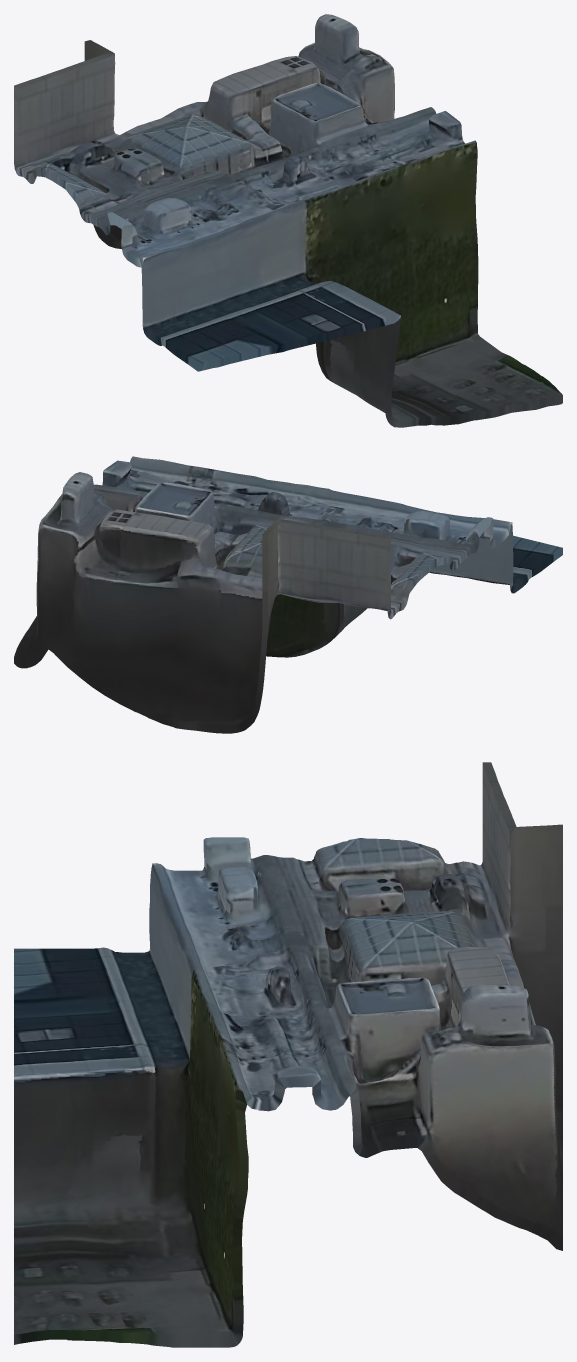
Rendered from z20-167750-405245-h0-yup-uvflip-v3-world.glb.
3 renders of one model, top to bottom at view 1: azimuth 30°, elevation 25°; view 2: azimuth 150°, elevation 25°; view 3: azimuth 270°, elevation 25°, orthographic. The views are drawn at different scales.
Bounding box in the file's own units: 30.16 × 21.6 × 30.32.
1 material, 1 textured.
